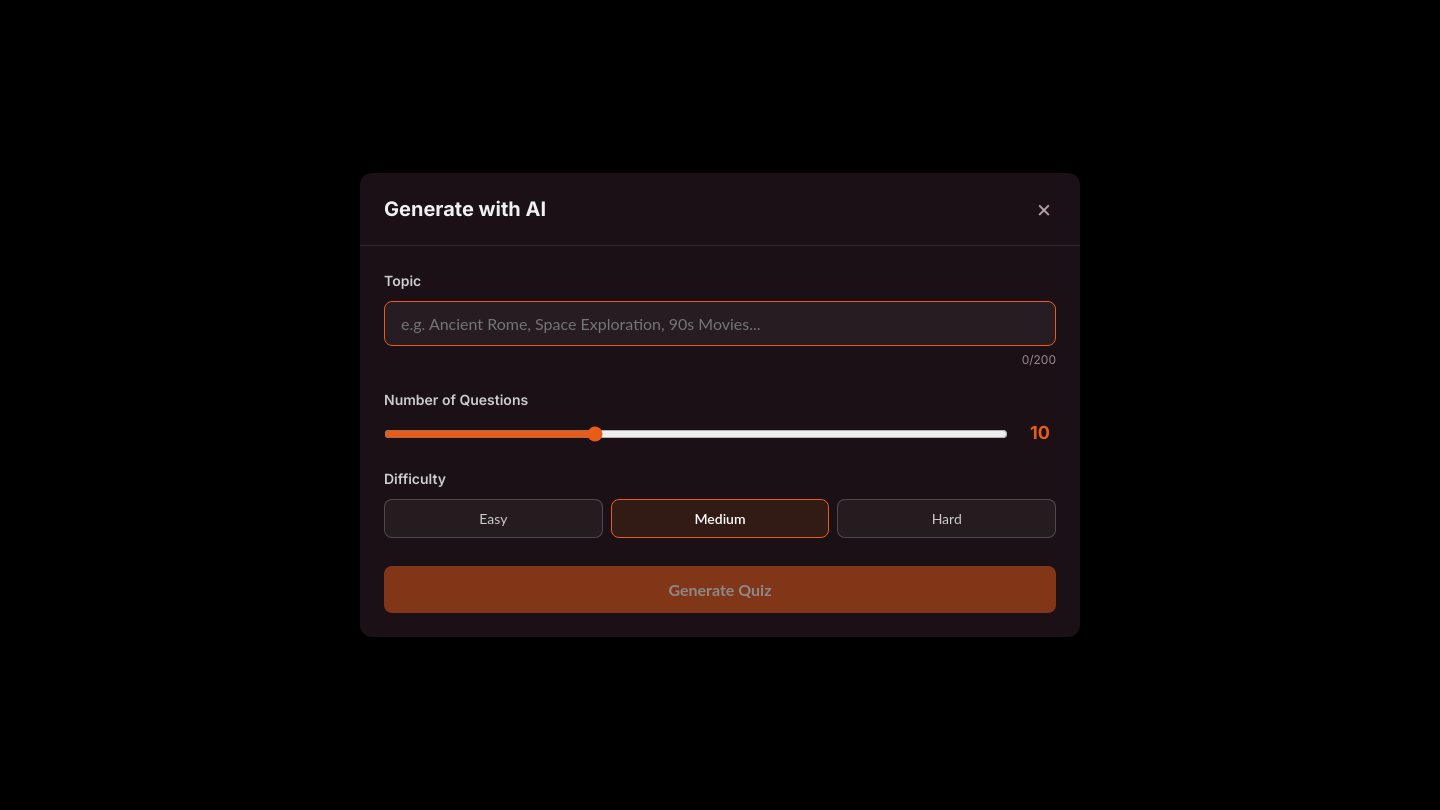
it: AIGenerateModal › shows preview with question table after generation
Type "Space" into the field labelled "Topic".
click(720, 323); type("Space")  # box [384,301,1056,346]
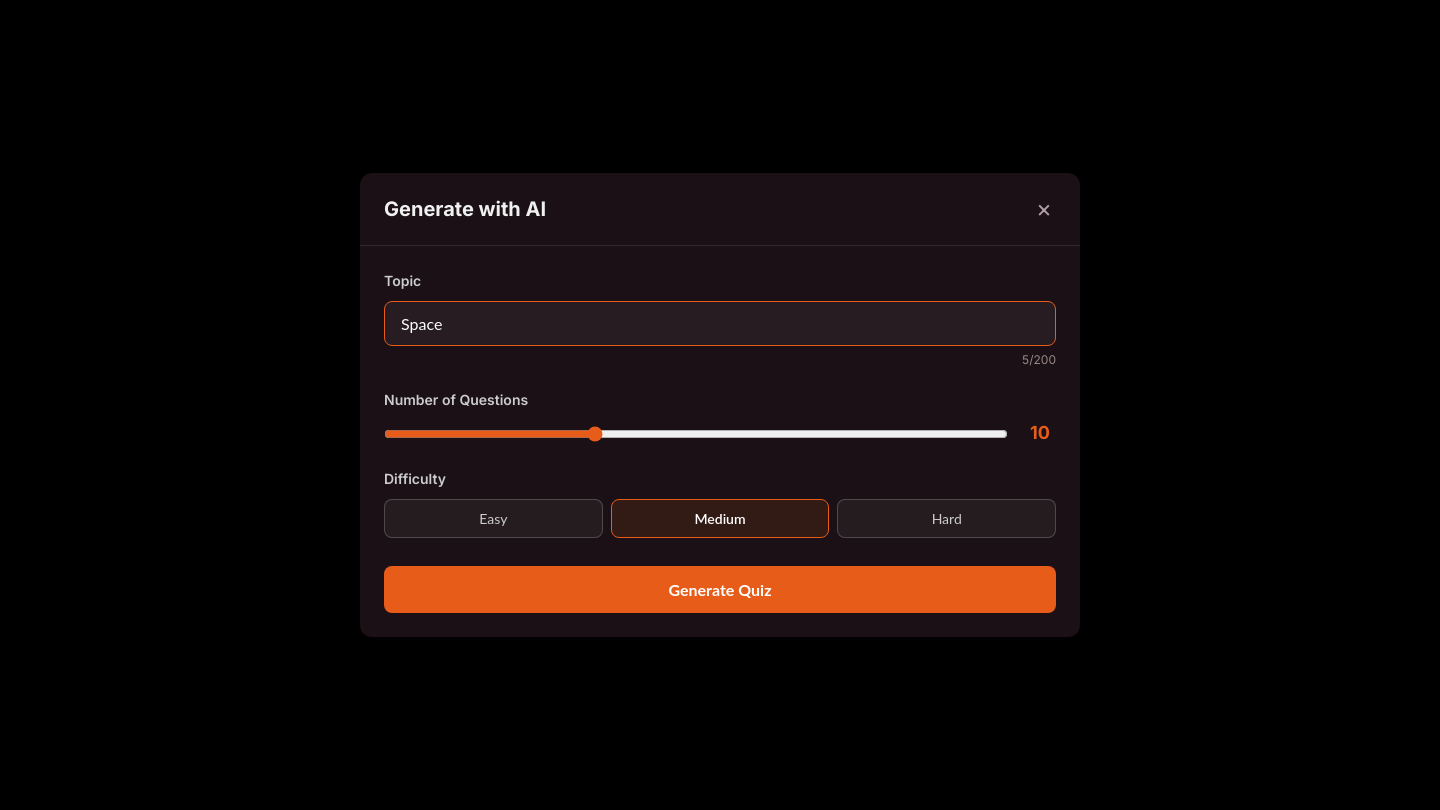
Click the button "Generate Quiz".
click(720, 589)  # box [384,566,1056,613]
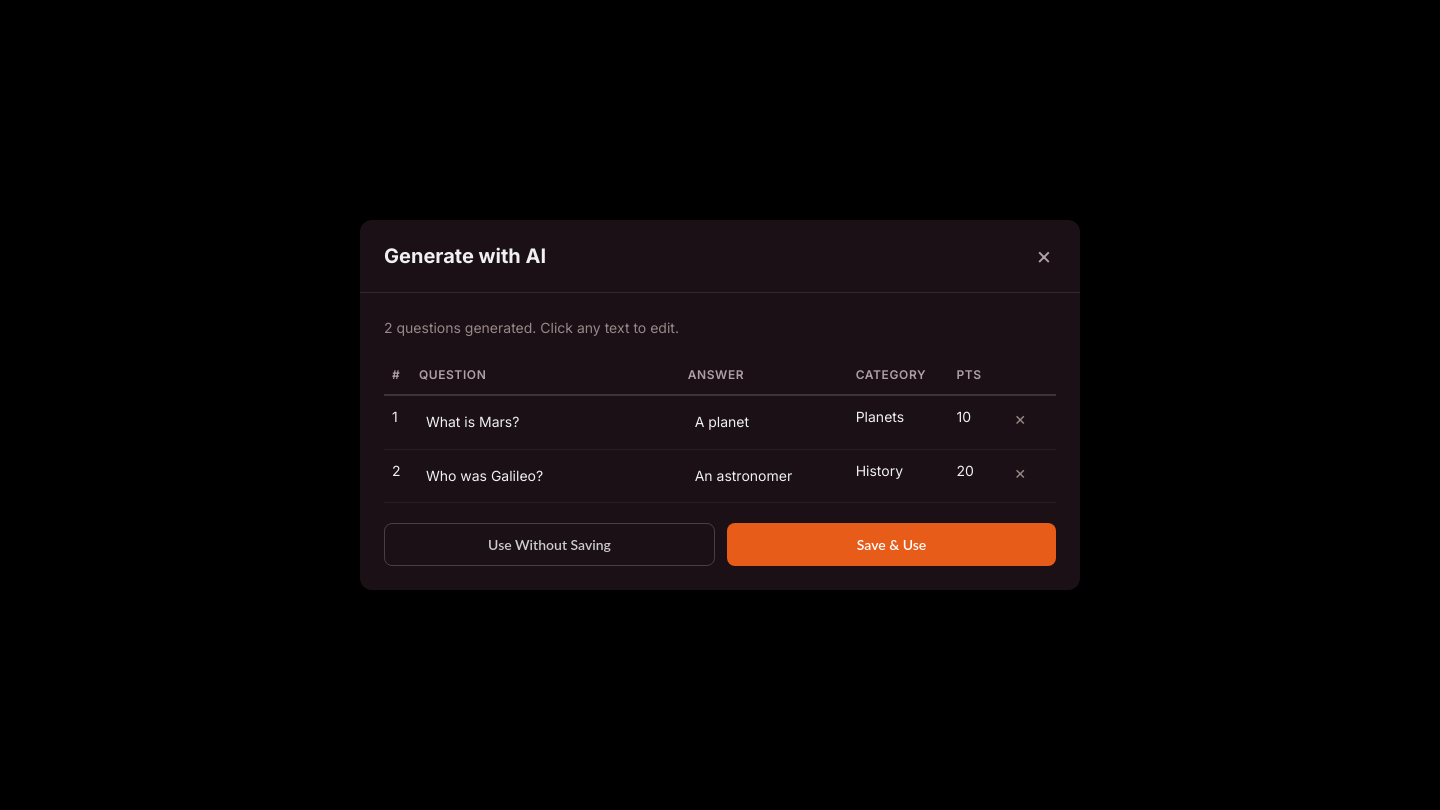
Now the text box "What is Mars?" is shown, box [426,413,519,430]
Now the text box "Who was Galileo?" is shown, box [426,467,543,484]
Now the text "2 questions generated. Click any text to edit." is shown, box [384,319,679,336]
